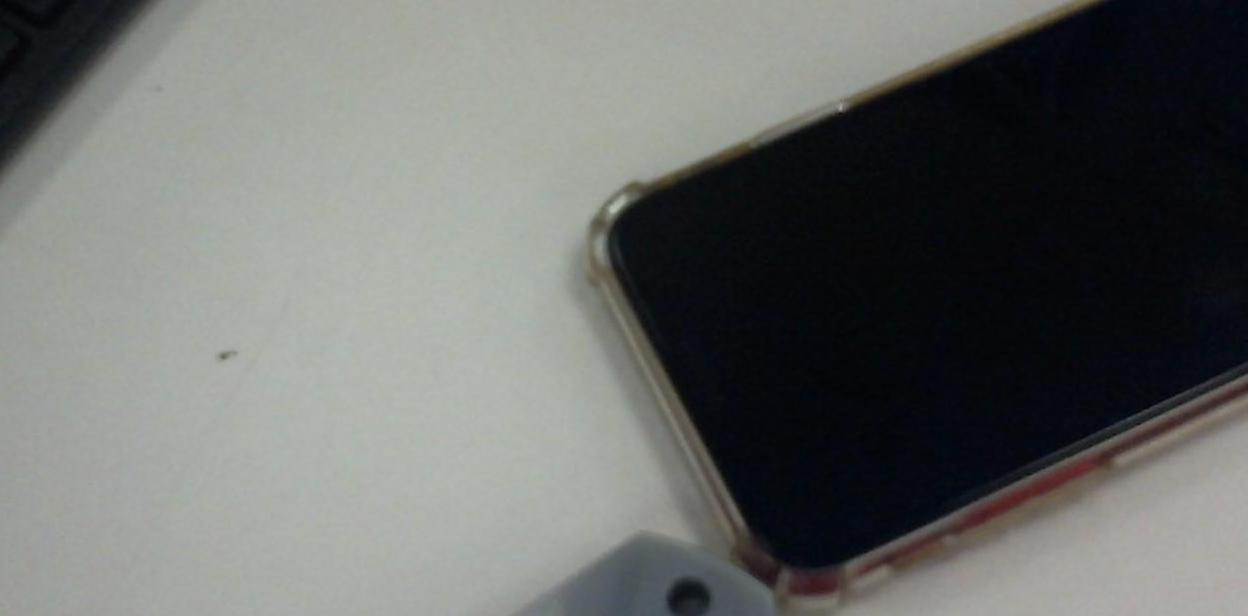hole: (661, 573, 722, 616)
